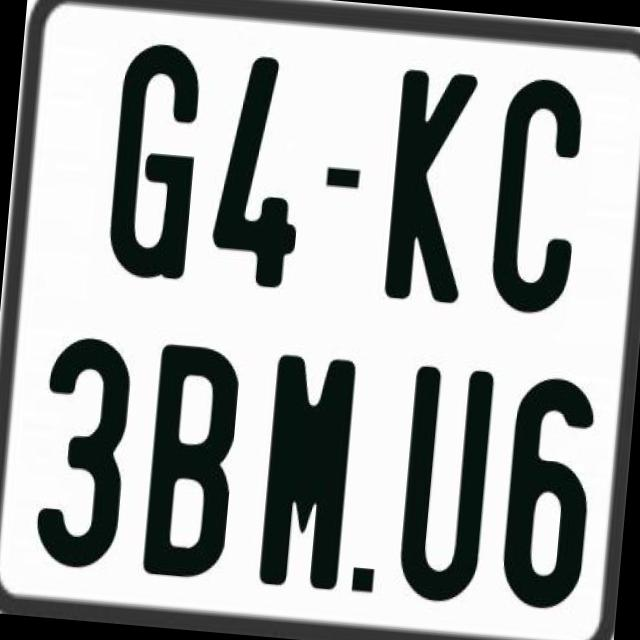3: (31, 335, 130, 578)
4: (204, 49, 315, 286)
6: (497, 376, 601, 614)
B: (140, 338, 240, 582)
C: (484, 75, 583, 324)
G: (102, 36, 200, 277)
K: (379, 66, 476, 312)
M: (255, 353, 354, 591)
U: (392, 366, 497, 612)
